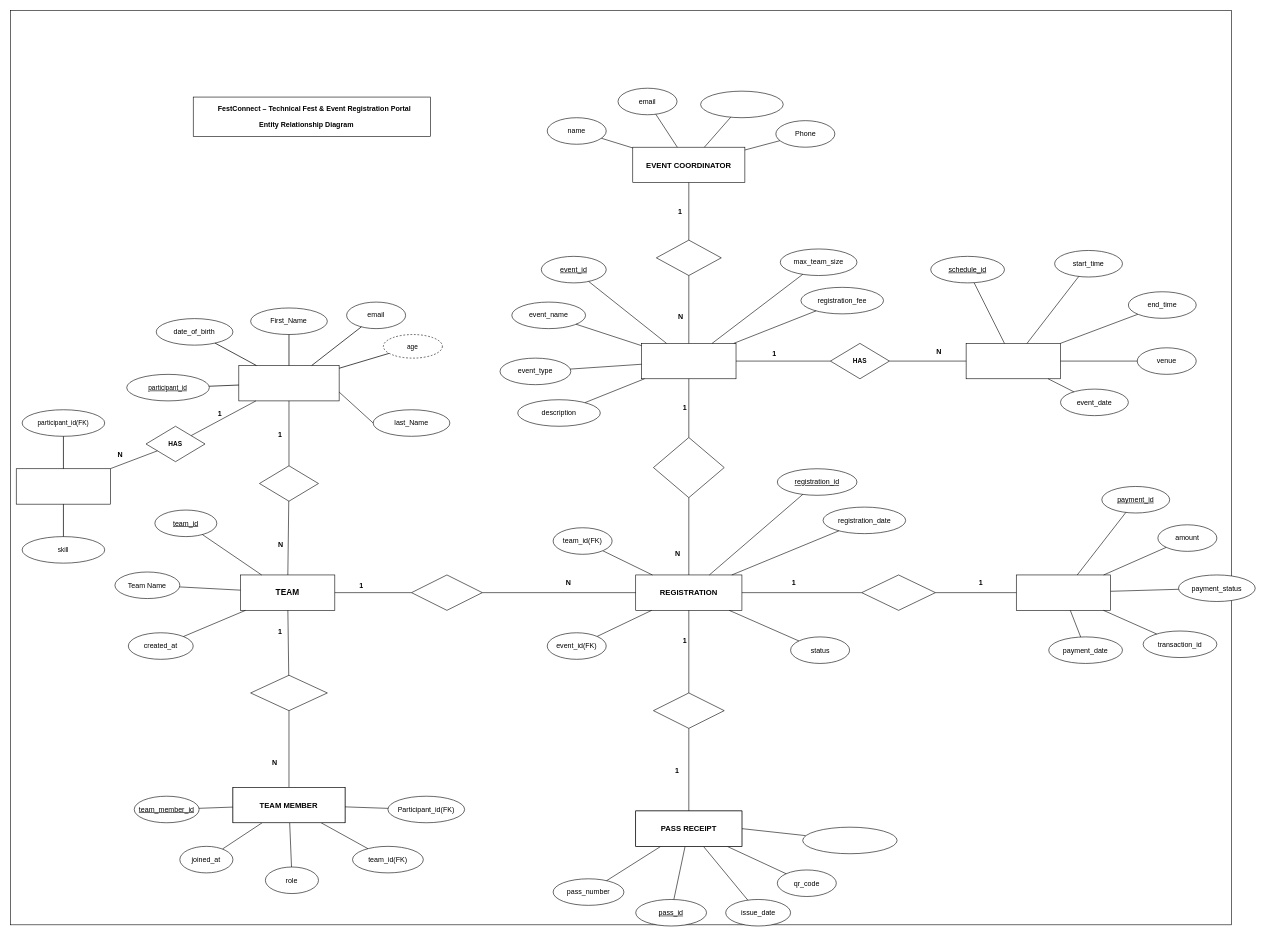
The diagram is 1266 pixels wide and 936 high, and some of its shapes have lost their labels. The centre of each missing label's shape, as x and y in pixels:
coordinator_id: (741,104)
EVENT: (688,361)
GENERATES: (688,710)
HAS MEMBERS: (288,693)
HAS PAYMENT: (898,592)
HAS REGISTRATIONS: (688,467)
LEADS: (288,483)
MANAGES: (688,258)
PARTICIPANT: (288,383)
Participant_Skill: (63,486)
PAYMENT: (1063,592)
REGISTERS: (446,592)
registration_id(FK): (849,840)
SCHEDULE: (1013,361)
